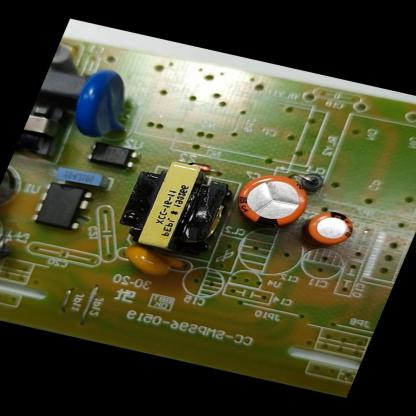Cap1: (222, 166, 320, 236)
Cap2: (294, 204, 362, 252)
Cap3: (0, 155, 34, 214)
Cap4: (0, 204, 16, 265)
MOSFET: (26, 174, 102, 234)
Mov: (61, 62, 151, 147)
Resistor: (46, 42, 92, 82)
Transformer: (108, 152, 248, 264), (12, 94, 84, 168)
